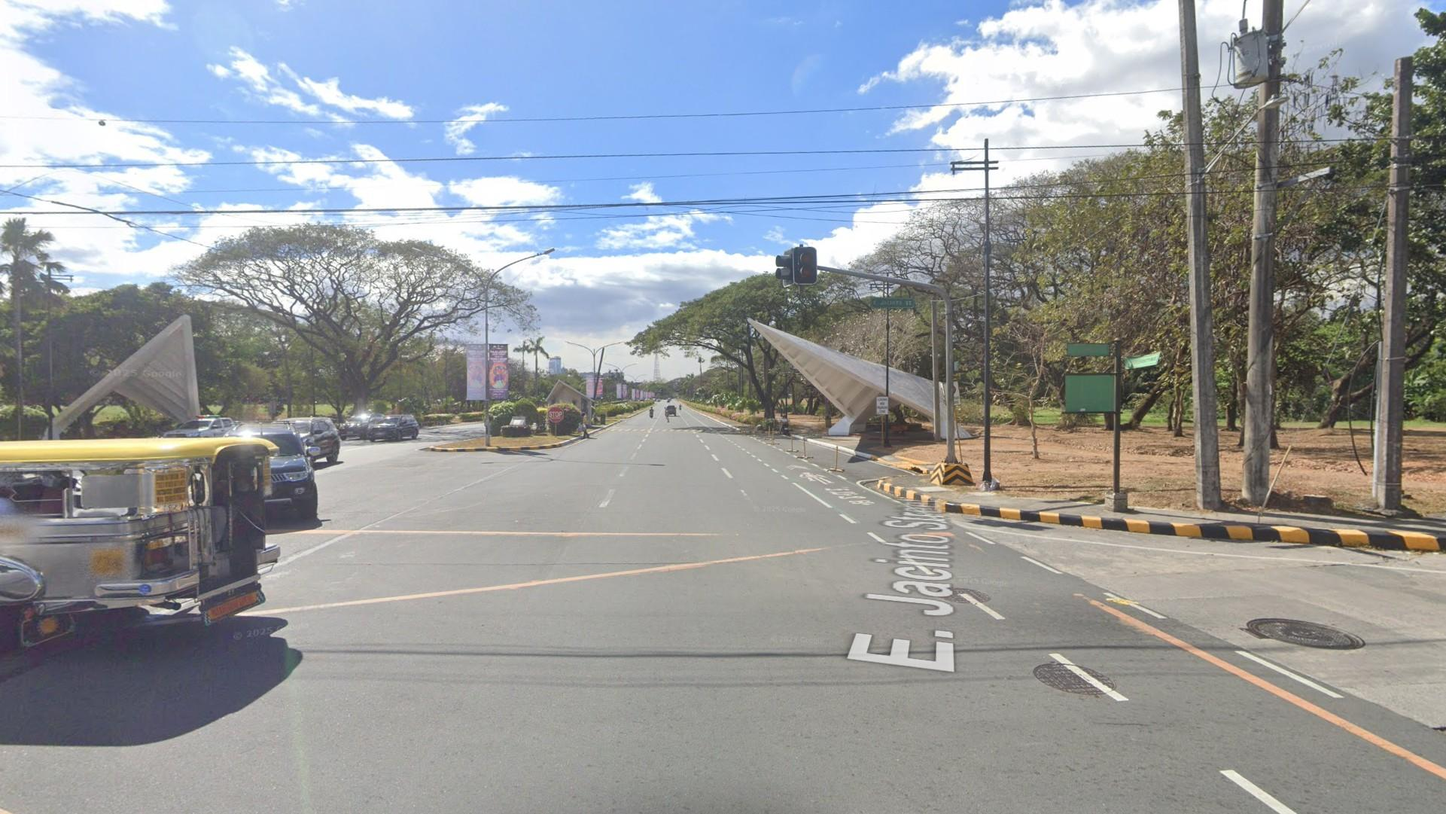pedestrian: (580, 412, 590, 439), (664, 406, 670, 423)
